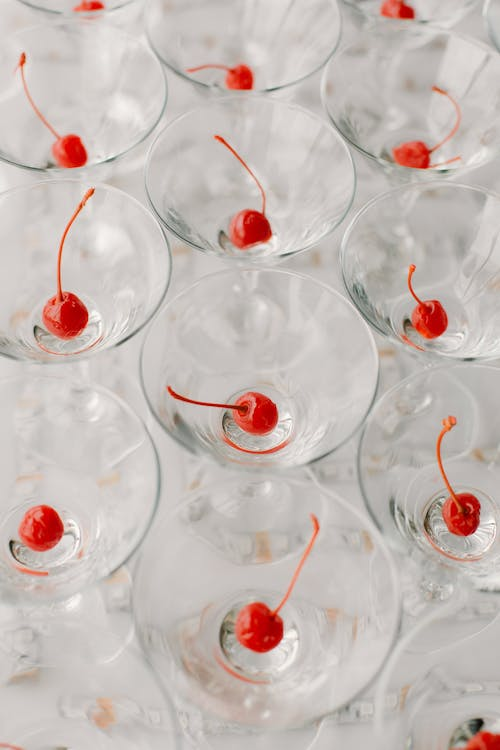alcohol: (127, 475, 404, 730), (136, 267, 383, 473), (142, 92, 358, 268), (0, 373, 163, 605), (354, 359, 500, 598), (0, 177, 175, 367), (335, 178, 500, 367), (319, 24, 500, 189), (0, 23, 170, 181), (140, 0, 343, 105), (372, 592, 500, 750), (340, 0, 486, 33), (0, 0, 145, 24)
